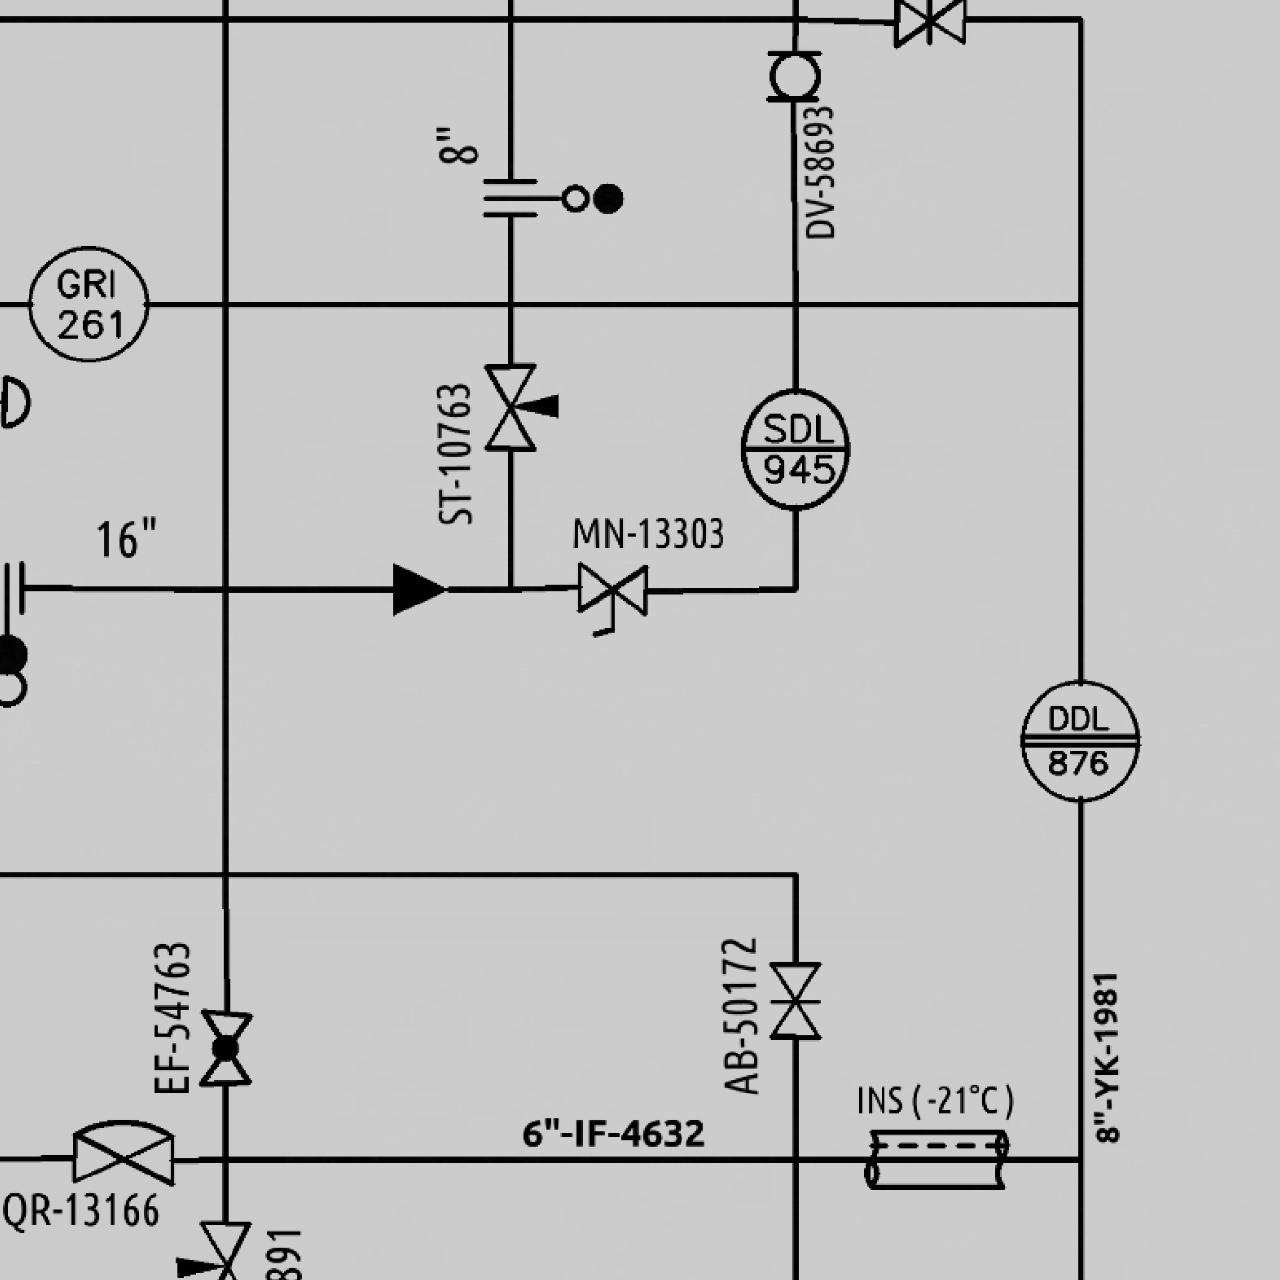Control-Panel: (1013, 674, 1145, 806)
